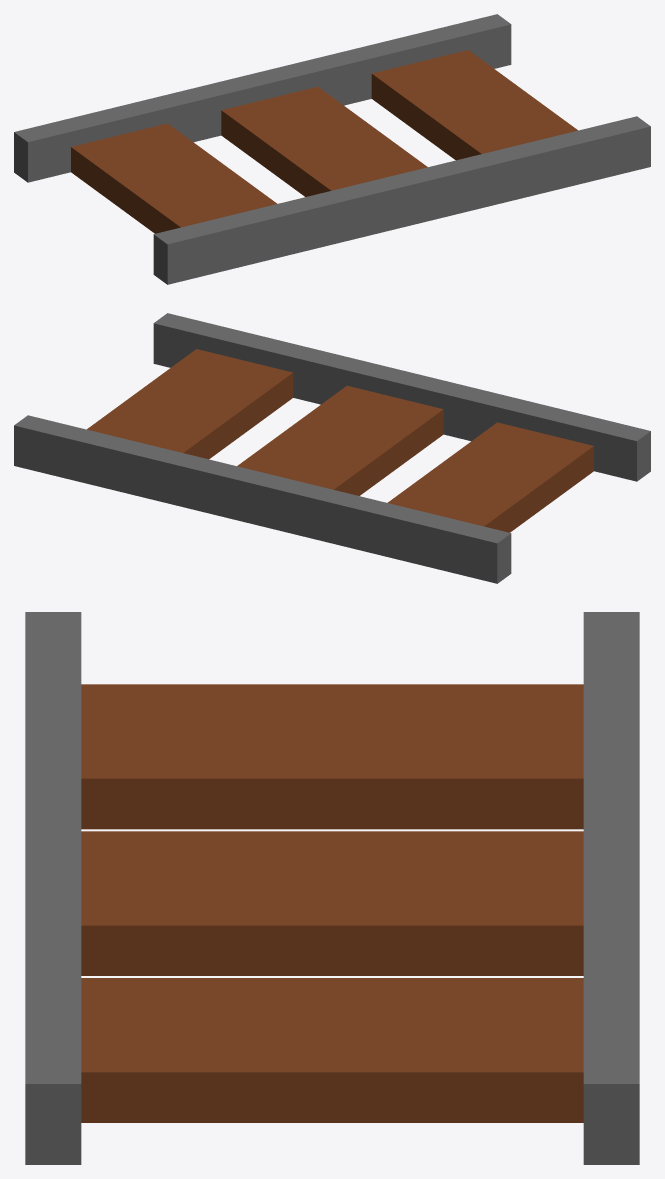
Rendered from rail_straight.fbx.
The picture shows the model from 3 angles, top to bottom: view 1: azimuth 30°, elevation 25°; view 2: azimuth 150°, elevation 25°; view 3: azimuth 270°, elevation 25°; orthographic projection. The views are drawn at different scales.
Visible parts, largest first — view 1: Cube, Cube.001, Cube.004, Cube.002, Cube.003; view 2: Cube.001, Cube, Cube.004, Cube.002, Cube.003; view 3: Cube.003, Cube.002, Cube.004, Cube, Cube.001.
Part boxes in pixels (left/top/right/bottom): Cube: left=153, top=116, right=650, bottom=284; Cube.001: left=14, top=14, right=511, bottom=182; Cube.004: left=371, top=50, right=577, bottom=160; Cube.002: left=221, top=86, right=427, bottom=196; Cube.003: left=71, top=123, right=277, bottom=233; Cube.001: left=14, top=415, right=511, bottom=583; Cube: left=153, top=313, right=650, bottom=481; Cube.004: left=87, top=349, right=293, bottom=459; Cube.002: left=237, top=385, right=443, bottom=495; Cube.003: left=387, top=422, right=593, bottom=532; Cube.003: left=81, top=684, right=583, bottom=829; Cube.002: left=81, top=831, right=583, bottom=975; Cube.004: left=81, top=978, right=583, bottom=1122; Cube: left=25, top=612, right=81, bottom=1164; Cube.001: left=583, top=612, right=639, bottom=1164.
Size of the model in its own units: 1000 by 80 by 550.
